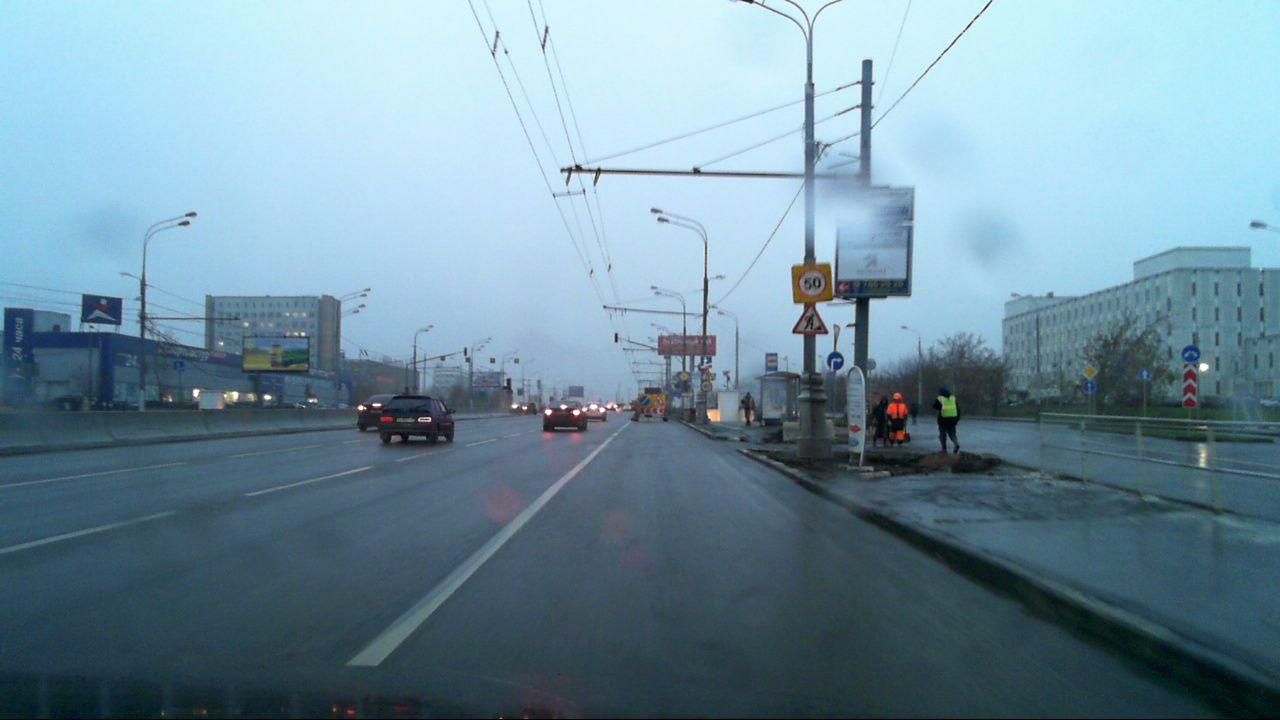road_sign: (792, 264, 832, 302), (790, 300, 830, 334), (1183, 363, 1198, 407), (826, 351, 844, 370)
